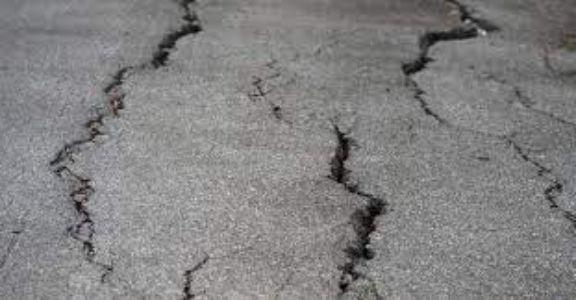crack: (51, 0, 237, 275), (295, 115, 419, 295), (477, 127, 576, 241), (405, 5, 501, 110)
